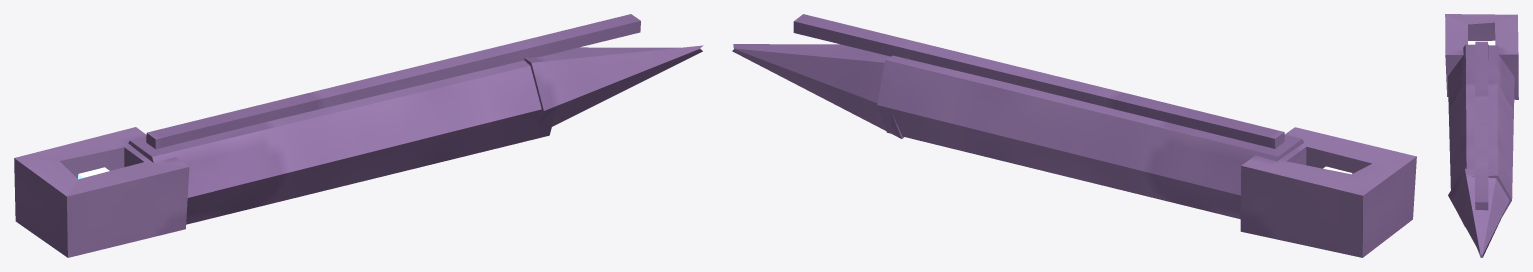
File: needle_epic.glb
3 views of the same model, side by side, from view 1: azimuth 30°, elevation 25°; view 2: azimuth 150°, elevation 25°; view 3: azimuth 270°, elevation 25° (orthographic). The views are drawn at different scales.
Visible parts, largest first — view 1: NeedleEpic; view 2: NeedleEpic; view 3: NeedleEpic.
Boxes of the visible parts, x1=… form: NeedleEpic: x1=14, y1=14, x2=703, y2=257; NeedleEpic: x1=732, y1=14, x2=1416, y2=257; NeedleEpic: x1=1445, y1=14, x2=1518, y2=257.
Bounding box in the file's own units: 0.3368 × 0.0416 × 0.0477.
Materials: 2 (1 with a texture image).
